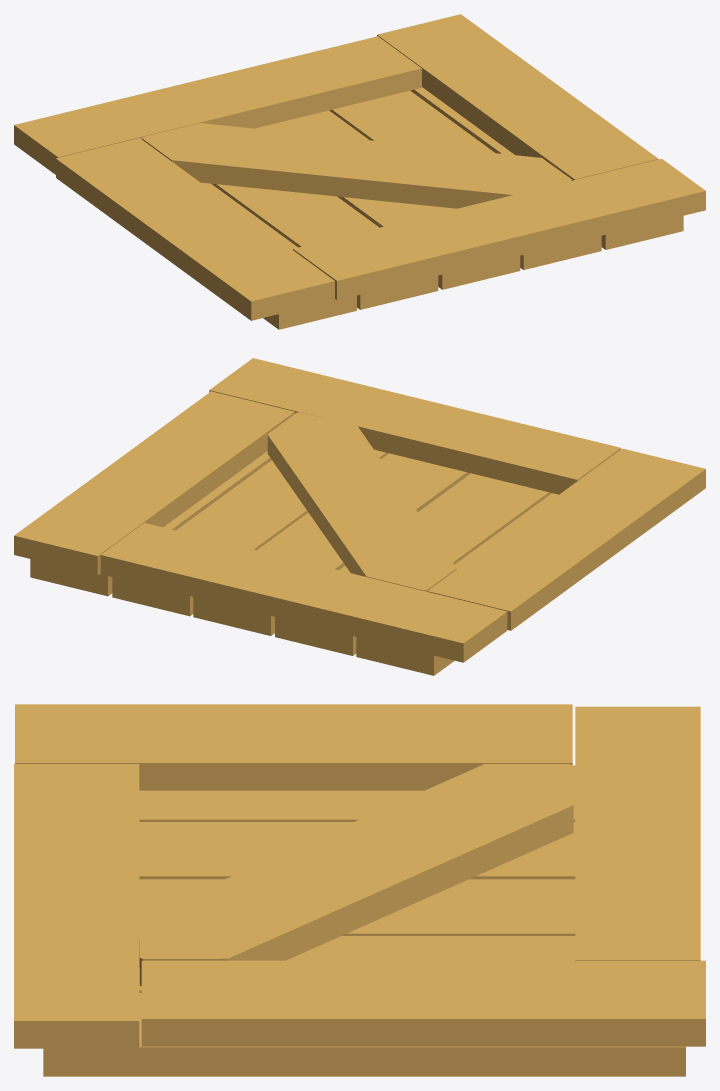
The model's file is WoodenBoxTop.fbx.
3 views of the same model, one above another, from view 1: azimuth 30°, elevation 25°; view 2: azimuth 150°, elevation 25°; view 3: azimuth 270°, elevation 25° (orthographic). The views are drawn at different scales.
Parts seen in each view (by area): view 1: WoodBoxTop; view 2: WoodBoxTop; view 3: WoodBoxTop.
Boxes of the visible parts, left/top/right/bottom form: WoodBoxTop: left=14, top=14, right=705, bottom=329; WoodBoxTop: left=14, top=358, right=705, bottom=675; WoodBoxTop: left=14, top=704, right=705, bottom=1076.
Size of the model in its own units: 658 by 61.93 by 608.
